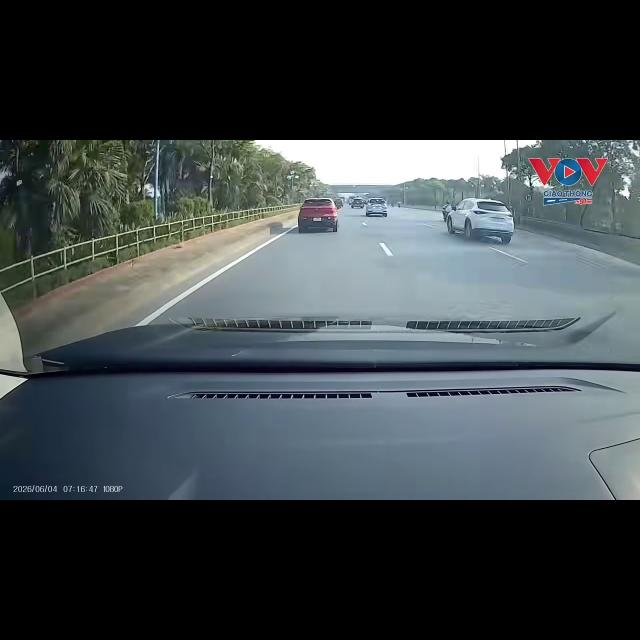car: (447, 198, 514, 243), (298, 198, 337, 232), (366, 198, 387, 216), (351, 198, 365, 208), (334, 198, 343, 208)
